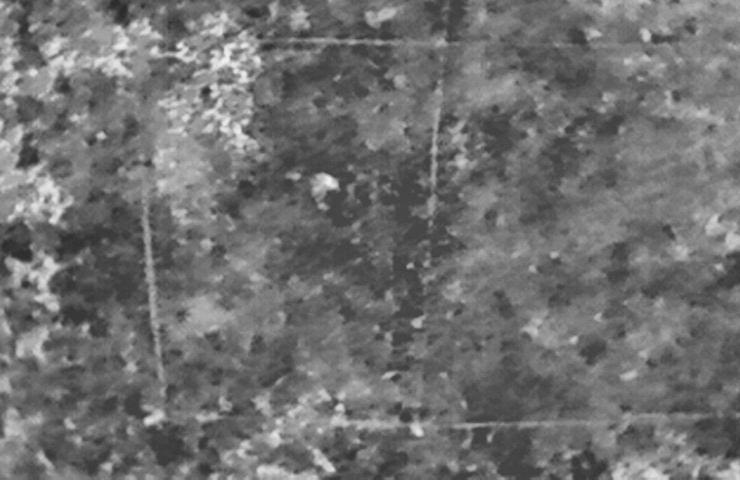landmines: (308, 170, 349, 209)
